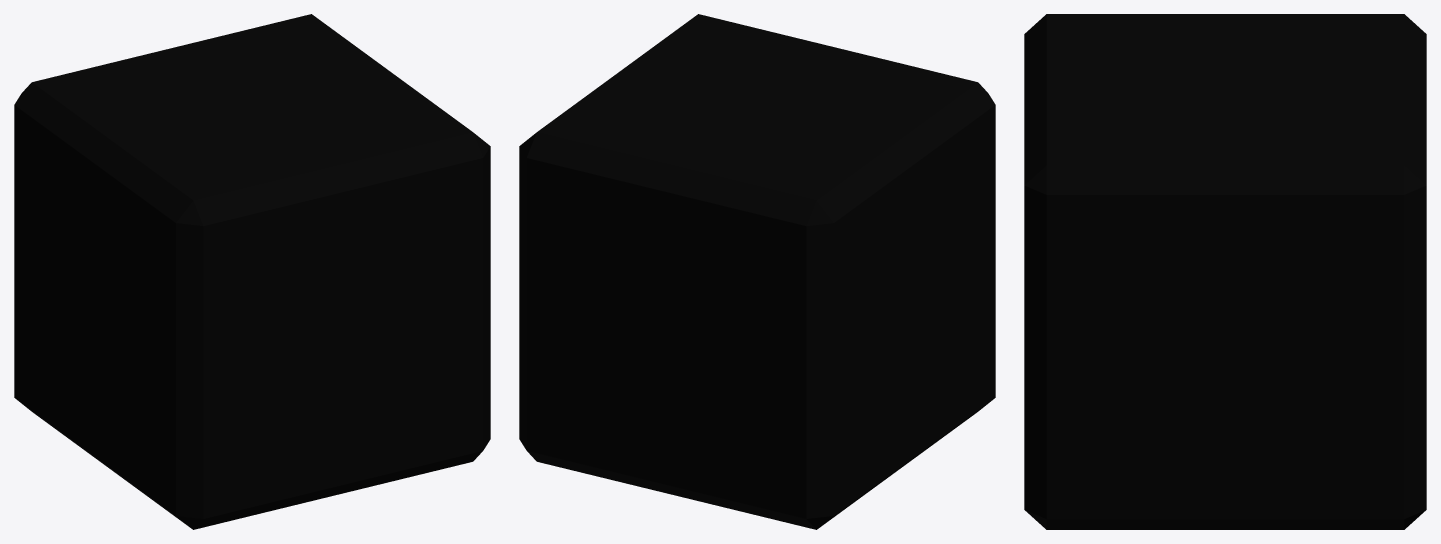
Rendered from layered_block.fbx.
3 views of the same model, side by side, from view 1: azimuth 30°, elevation 25°; view 2: azimuth 150°, elevation 25°; view 3: azimuth 270°, elevation 25° (orthographic). The views are drawn at different scales.
Visible parts, largest first — view 1: layered_block; view 2: layered_block; view 3: layered_block.
Part boxes in pixels (x1=…): layered_block: x1=14, y1=14, x2=490, y2=529; layered_block: x1=519, y1=14, x2=995, y2=529; layered_block: x1=1024, y1=14, x2=1426, y2=529.
Bounding box in the file's own units: 112 × 113 × 113.
